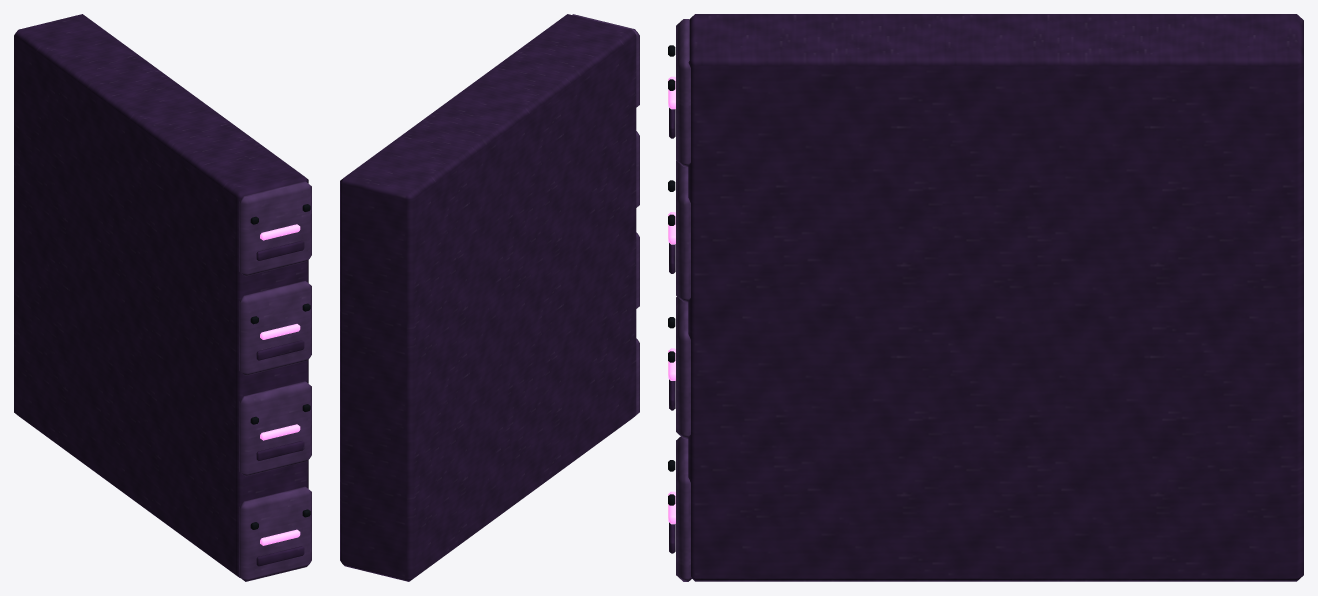
Rendered from riftcore_nexus_wall.glb.
The picture shows the model from 3 angles, left to right: view 1: azimuth 30°, elevation 25°; view 2: azimuth 150°, elevation 25°; view 3: azimuth 270°, elevation 25°; orthographic projection. The views are drawn at different scales.
Parts seen in each view (by area): view 1: riftcore_nexus_wall - riftcore_nexus panels, riftcore_nexus_wall - riftcore_nexus trim, riftcore_nexus_wall - riftcore_nexus accents, riftcore_nexus_wall - Recessed iron; view 2: riftcore_nexus_wall - riftcore_nexus panels, riftcore_nexus_wall - riftcore_nexus trim; view 3: riftcore_nexus_wall - riftcore_nexus panels, riftcore_nexus_wall - riftcore_nexus trim.
Part boxes in pixels (left/top/right/bottom): riftcore_nexus_wall - riftcore_nexus panels: left=14, top=14, right=308, bottom=577; riftcore_nexus_wall - riftcore_nexus trim: left=239, top=181, right=311, bottom=581; riftcore_nexus_wall - riftcore_nexus accents: left=260, top=224, right=300, bottom=545; riftcore_nexus_wall - Recessed iron: left=250, top=204, right=310, bottom=529; riftcore_nexus_wall - riftcore_nexus panels: left=340, top=14, right=636, bottom=581; riftcore_nexus_wall - riftcore_nexus trim: left=572, top=14, right=639, bottom=414; riftcore_nexus_wall - riftcore_nexus panels: left=669, top=14, right=1303, bottom=581; riftcore_nexus_wall - riftcore_nexus trim: left=676, top=19, right=691, bottom=581.
Size of the model in its own units: 0.79 by 4.01 by 4.39.
Materials: 4 (3 with a texture image).
